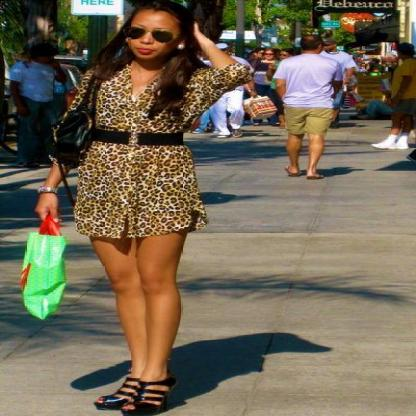bag: (23, 96, 106, 318)
dress: (62, 54, 253, 244)
shoe: (94, 378, 174, 415)
sunglass: (137, 27, 178, 49)
